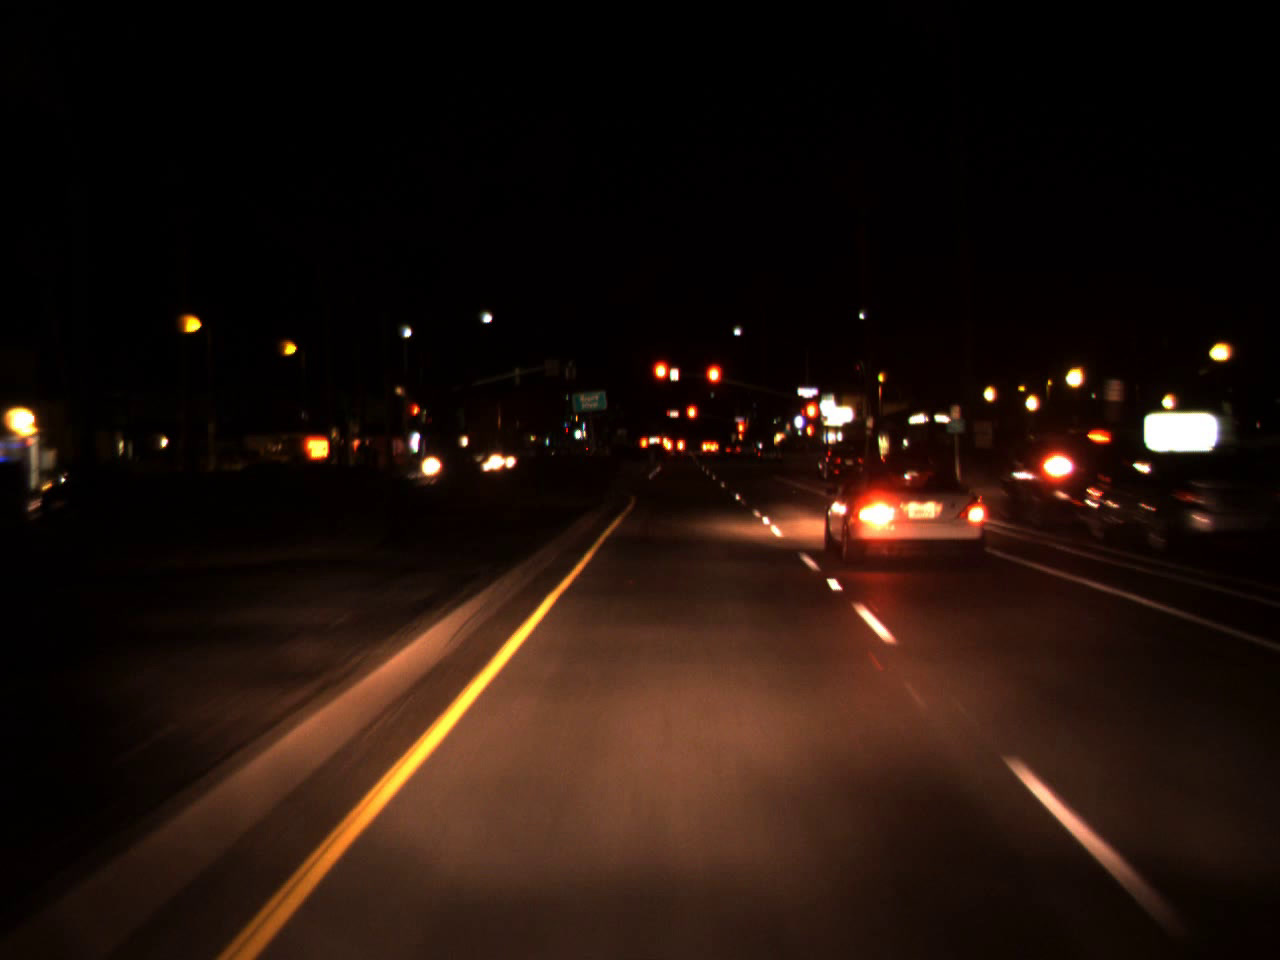stop: (650, 359, 669, 402), (703, 362, 722, 405), (803, 398, 821, 441), (684, 403, 699, 435), (736, 417, 745, 449), (410, 403, 422, 427)
